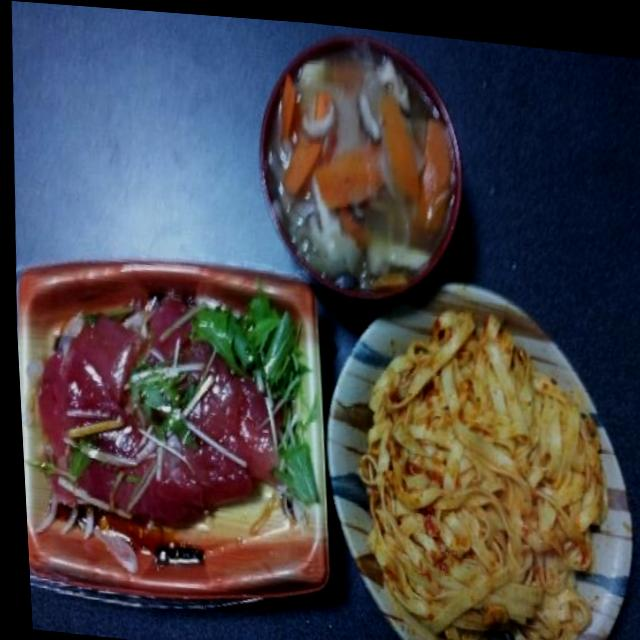蔬菜料理: (243, 19, 469, 299)
